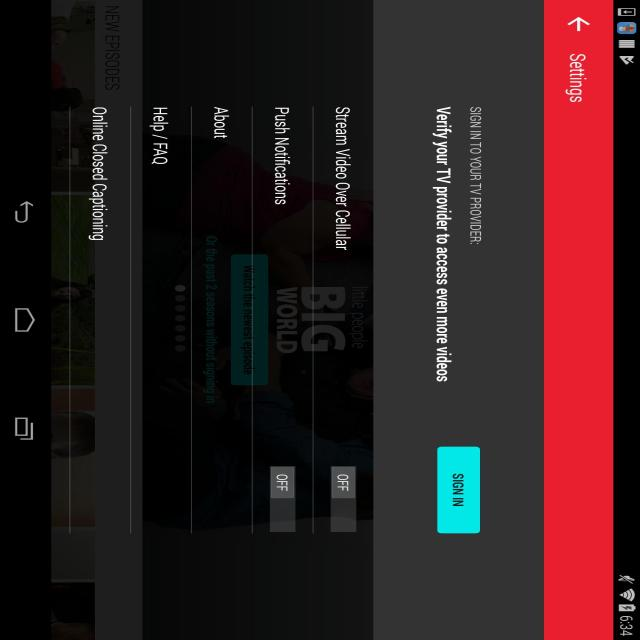button: (441, 446, 479, 534), (270, 464, 297, 536), (334, 466, 358, 536), (558, 9, 599, 39)
heading: (567, 44, 590, 115)
image: (138, 0, 376, 640)
link: (148, 102, 171, 172)
text: (269, 104, 294, 210), (90, 102, 108, 246), (336, 103, 350, 256), (208, 104, 235, 144)
